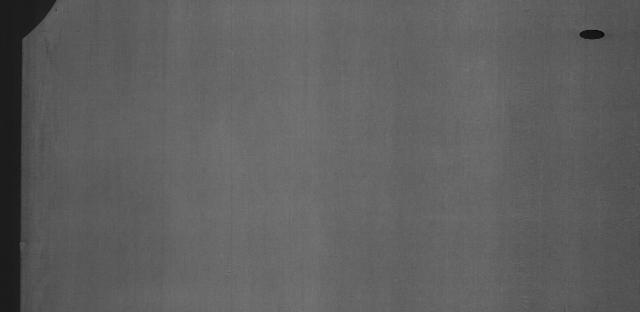punching_hole: (575, 24, 608, 45)
